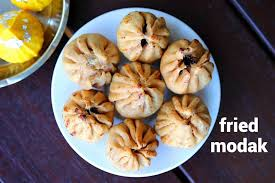modak: (110, 55, 170, 114), (165, 37, 219, 97), (151, 98, 215, 148), (61, 36, 120, 85), (109, 119, 160, 173)
